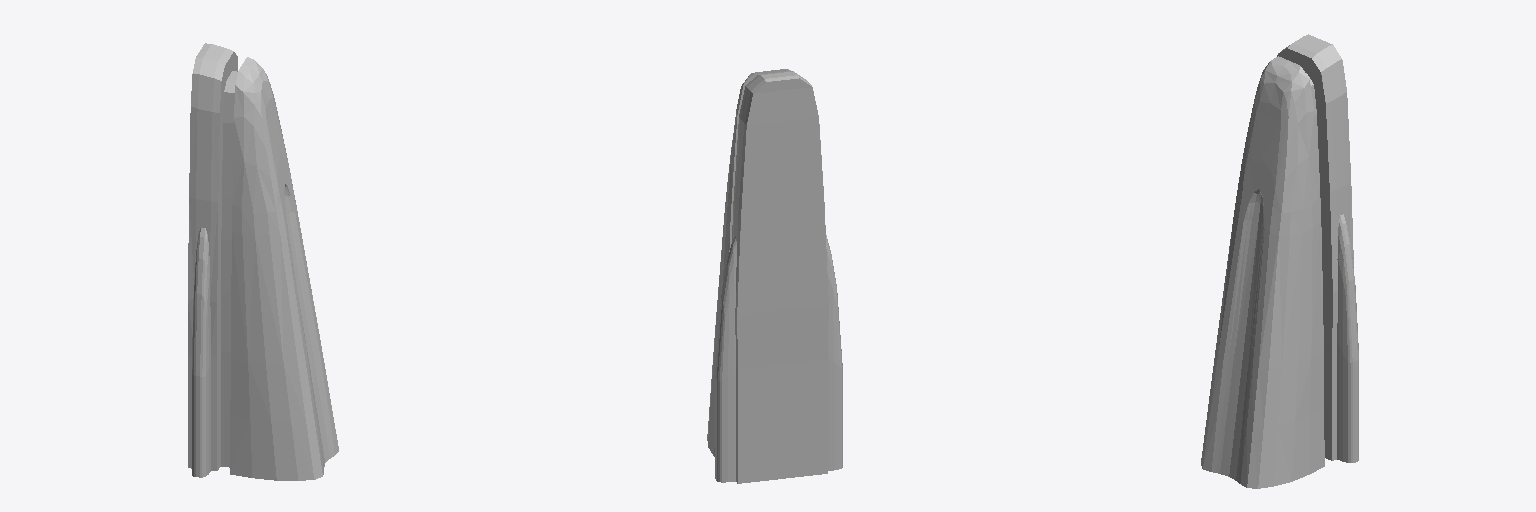
Rendered from Pillar2.obj.
3 views of the same model, side by side, from view 1: azimuth 30°, elevation 25°; view 2: azimuth 150°, elevation 25°; view 3: azimuth 270°, elevation 25° (orthographic).
Visible parts, largest first — view 1: Pillar2; view 2: Pillar2; view 3: Pillar2.
Part boxes in pixels (x1,y1,x2,y2): Pillar2: (188,43,338,480); Pillar2: (707,69,842,483); Pillar2: (1201,34,1358,488).
Bounding box in the file's own units: 9.37 × 26 × 9.37.